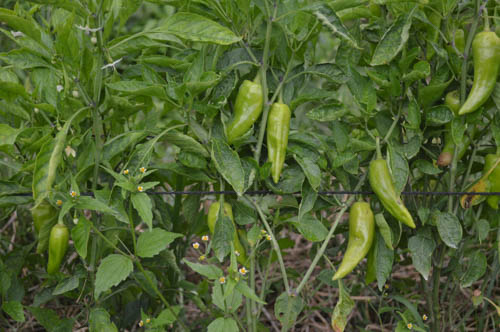ChiliPepper: (331, 201, 374, 286), (461, 32, 498, 126), (367, 160, 414, 226), (226, 82, 263, 147), (210, 202, 245, 264), (443, 94, 470, 171), (268, 103, 291, 184), (44, 224, 68, 276)
